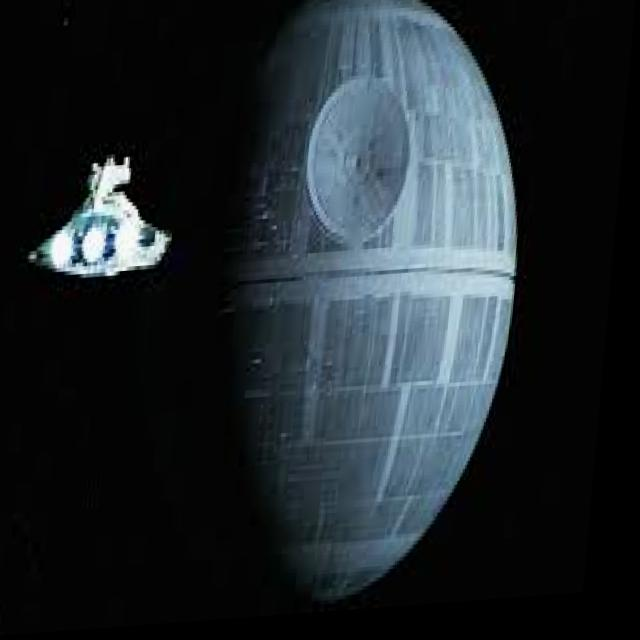deathStar: (175, 0, 542, 621)
